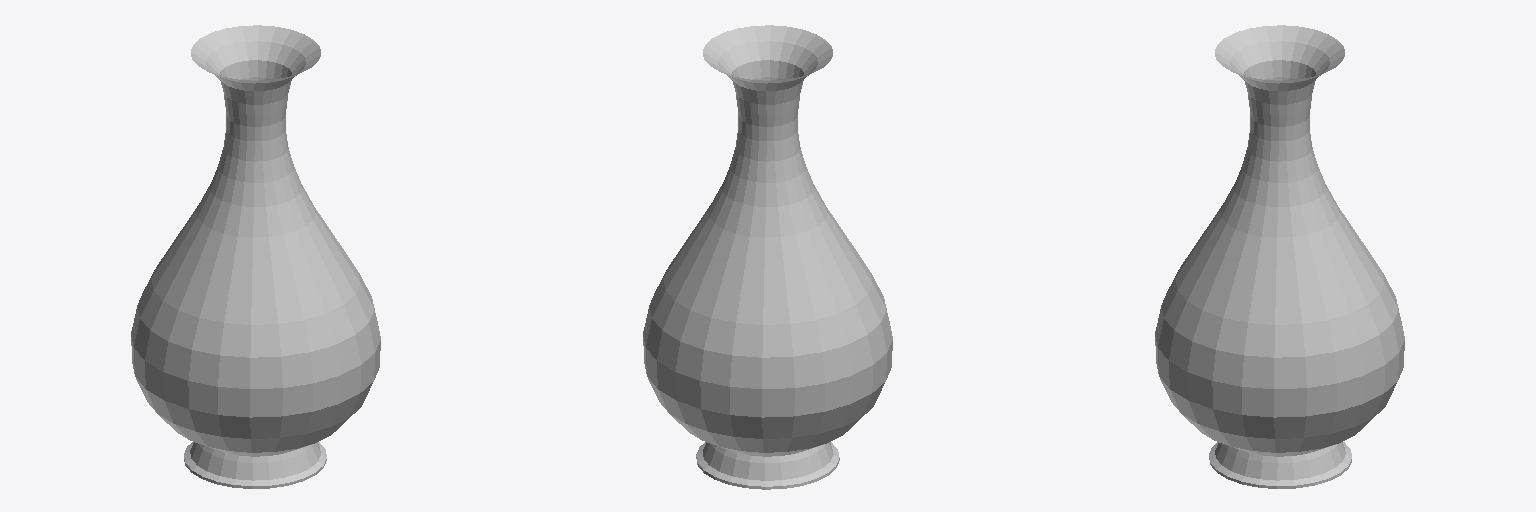
File: vase_blender.obj
The picture shows the model from 3 angles: view 1: azimuth 30°, elevation 25°; view 2: azimuth 150°, elevation 25°; view 3: azimuth 270°, elevation 25°; orthographic projection.
Parts seen in each view (by area): view 1: vase_Sphere.000; view 2: vase_Sphere.000; view 3: vase_Sphere.000.
Part boxes in pixels (left/top/right/bottom): vase_Sphere.000: left=131, top=25, right=380, bottom=488; vase_Sphere.000: left=643, top=25, right=892, bottom=489; vase_Sphere.000: left=1155, top=25, right=1404, bottom=488.
Bounding box in the file's own units: 1.51 × 2.7 × 1.51.